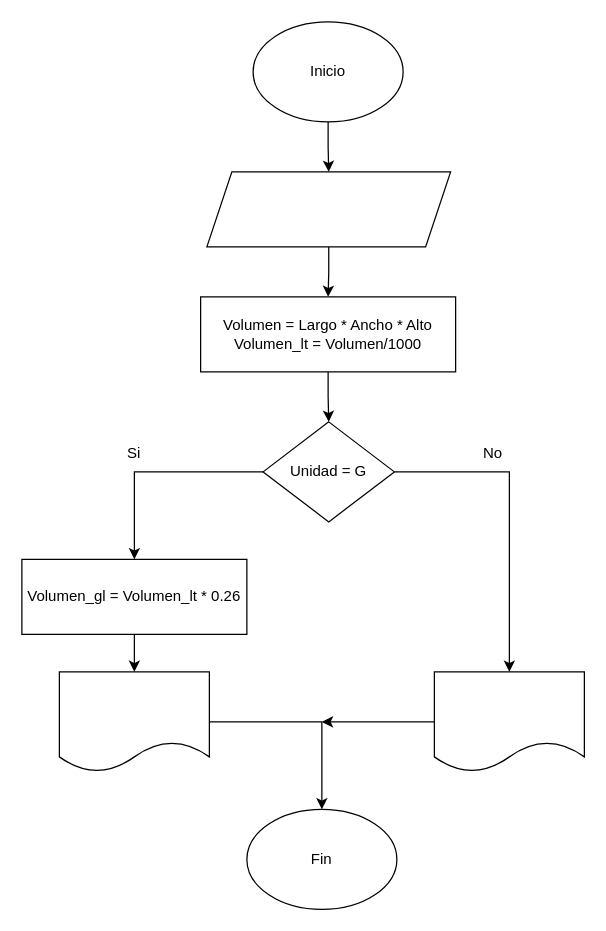
This 606x931 diagram has some shape labels left out. Each missing label, with the centre of its shape:
Largo, Ancho, Alto, Unidad: pixel 328 209
Volumen_gl: pixel 133 721
Volumen_lt: pixel 508 721
